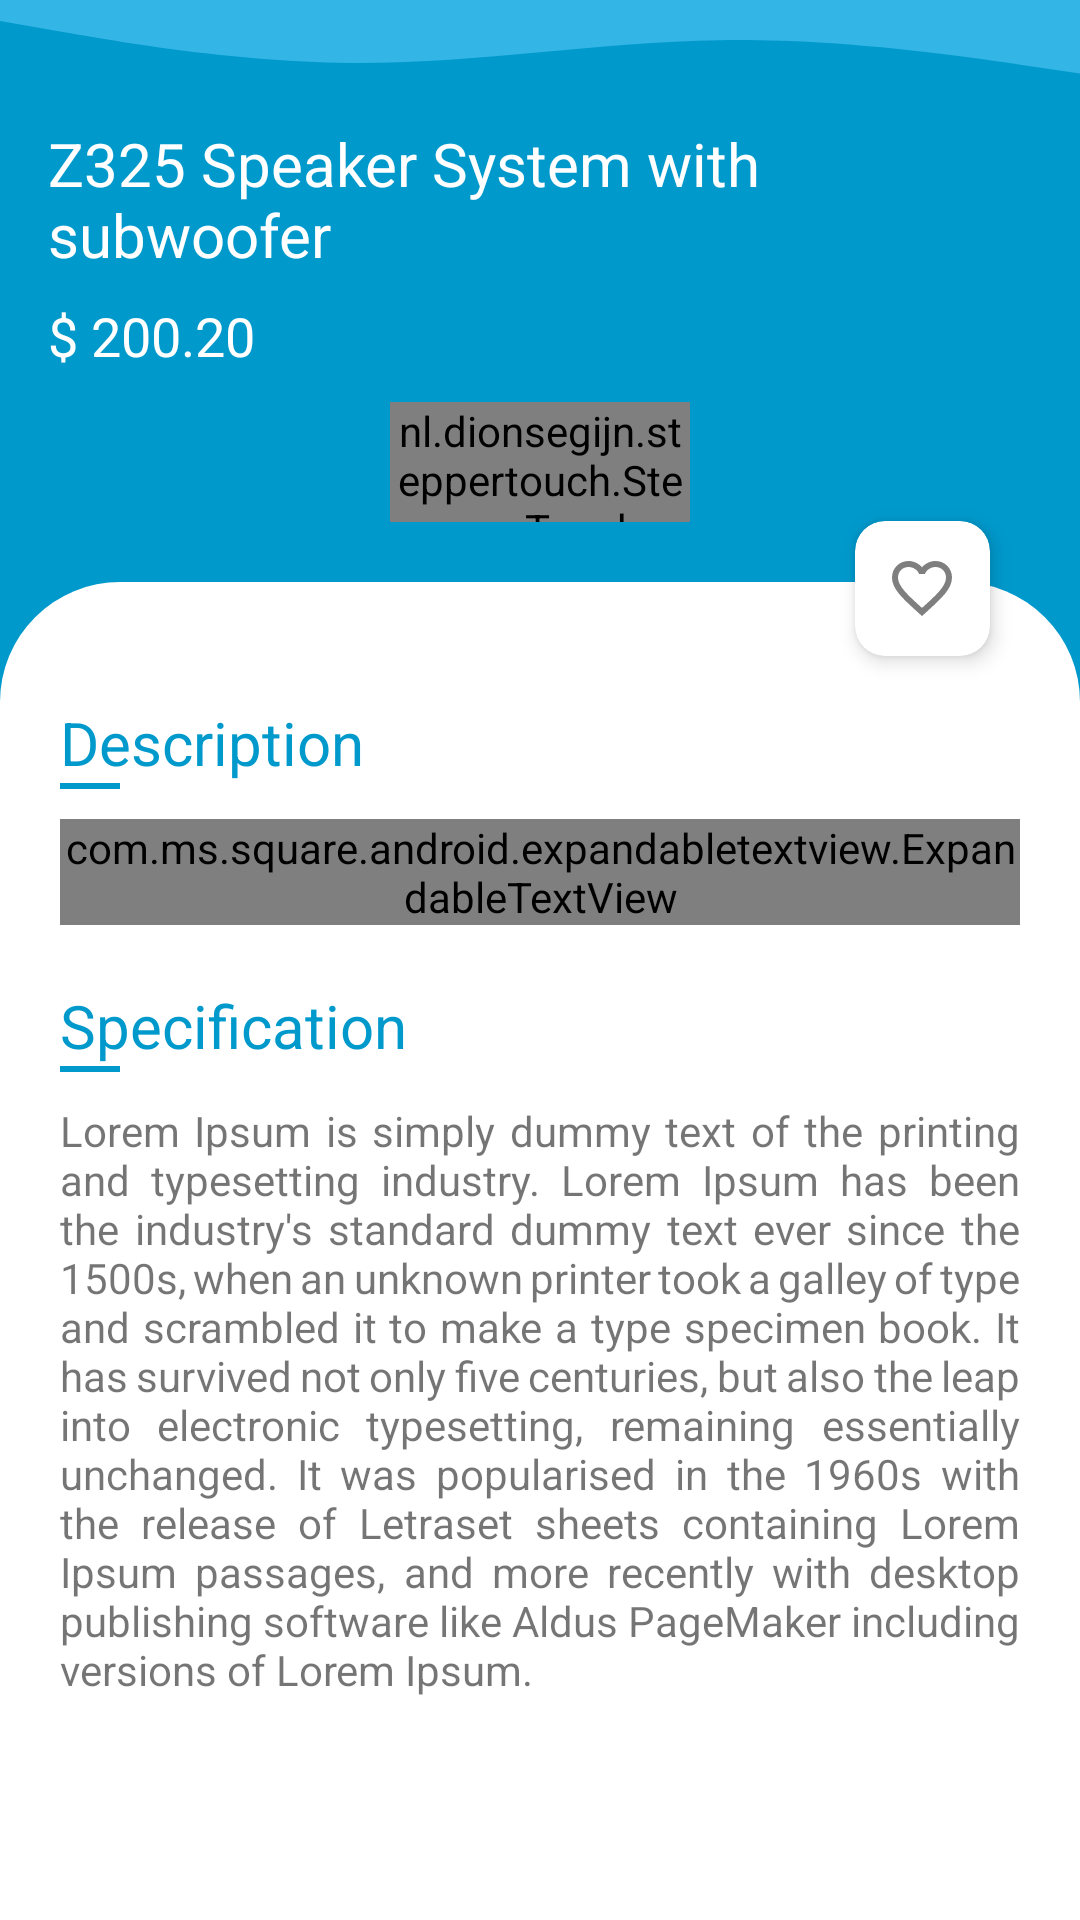

Icon bounding boxes for this 1080px x 1920px phone screenshot, format rect(x1, y1, x2, y2):
favorite false: rect(892, 561, 952, 616)
